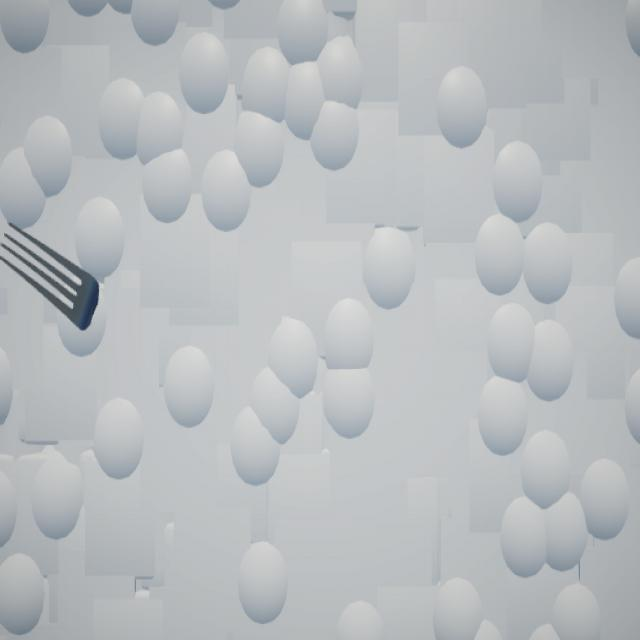top_folk: (1, 223, 100, 332)
